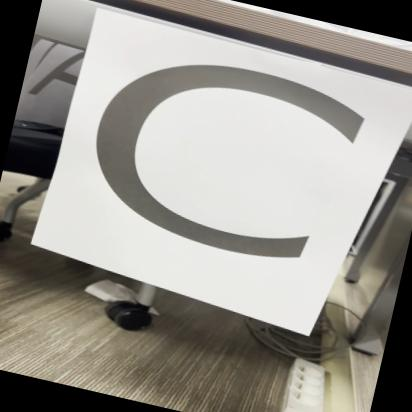seat: (40, 9, 412, 360)
